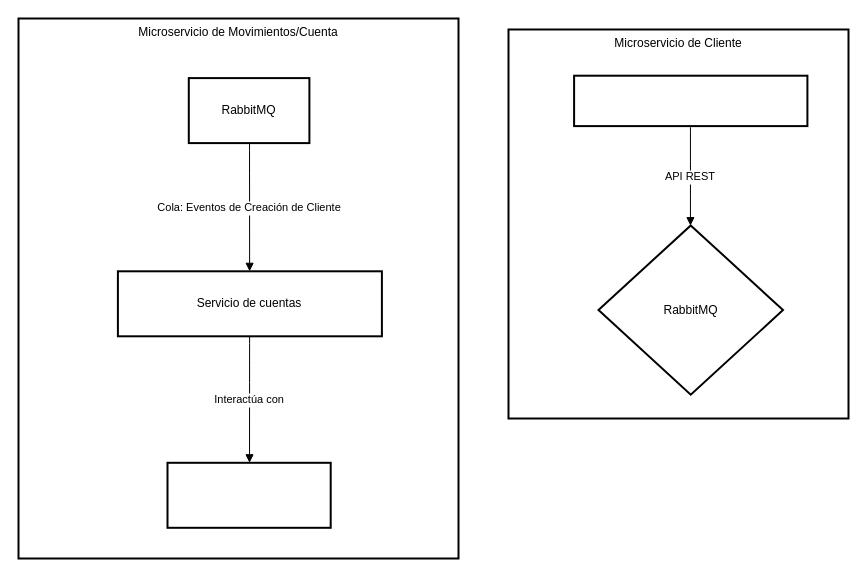
This 866x576 diagram has some shape labels left out. The centre of each missing label's shape, as x and y in pixels:
"Base de Datos" belongs at (248,494).
"Servicio de Cliente" belongs at (690,100).
